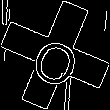O_NE: (25, 23, 85, 87)
